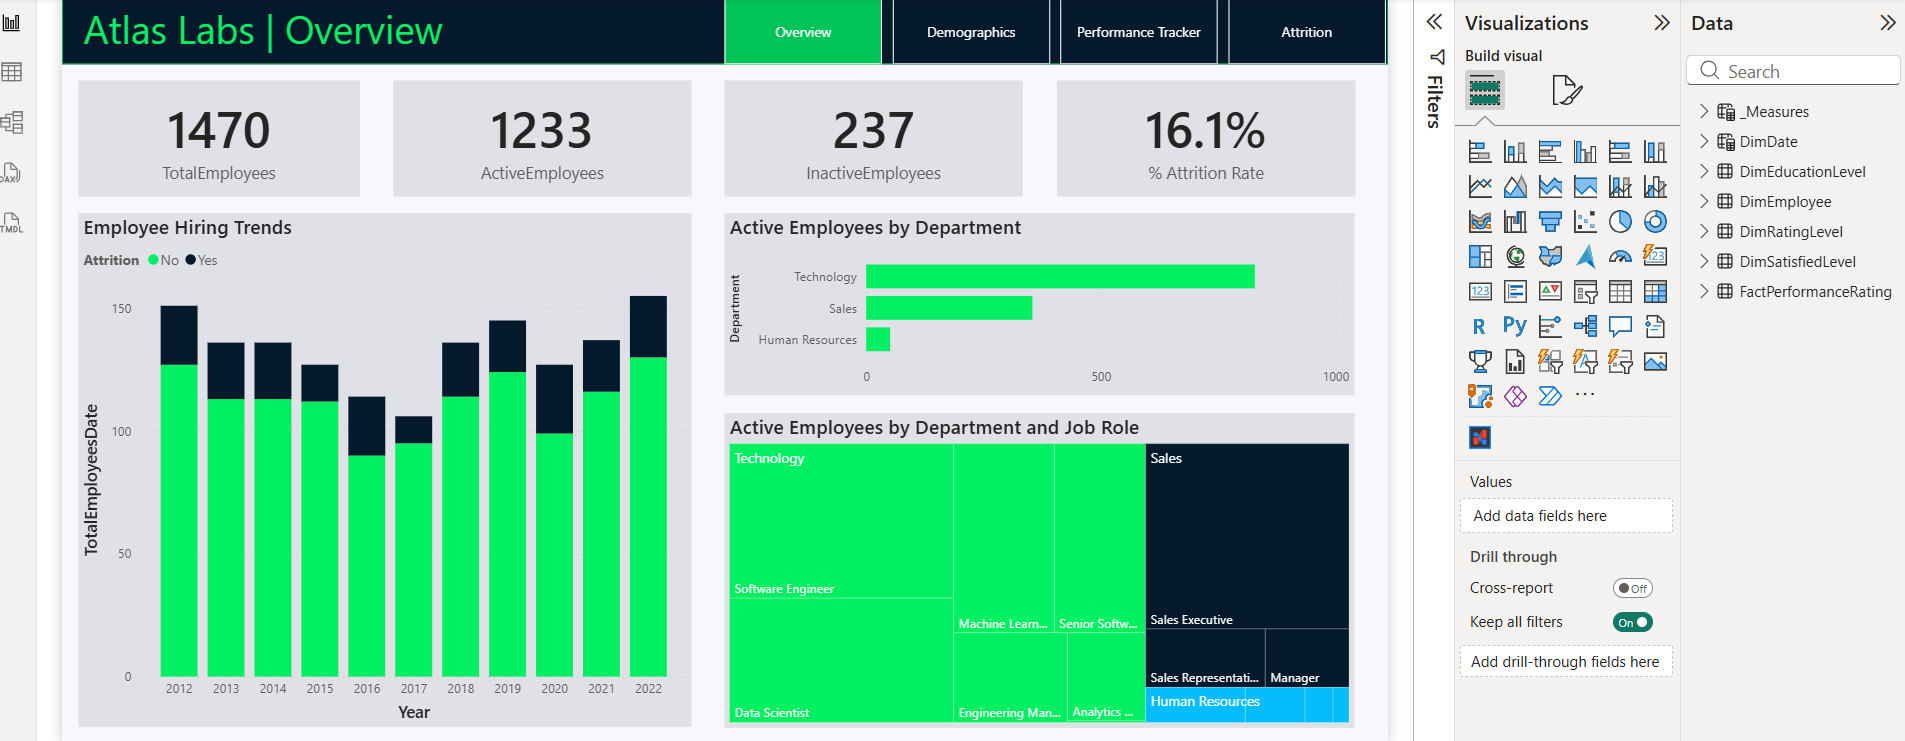

The dashboard page shown, as its layout file describes it:
{"tool":"powerbi","page":{"name":"Overview","canvas":[1280,720],"ordinal":0},"visuals":[{"type":"card","fields":{"Values":["_Measures.TotalEmployees"]},"box":[16,80,272,112],"z":0},{"type":"card","fields":{"Values":["_Measures.ActiveEmployees"]},"box":[320,80,288,112],"z":1000},{"type":"card","fields":{"Values":["_Measures.InactiveEmployees"]},"box":[640,80,288,112],"z":2000},{"type":"card","fields":{"Values":["_Measures.% Attrition Rate"]},"box":[960,80,288,112],"z":3000},{"type":"columnChart","title":"Employee Hiring Trends","fields":{"Category":["DimDate.Date.Variation.Date Hierarchy.Year","DimDate.Date.Variation.Date Hierarchy.Quarter","DimDate.Date.Variation.Date Hierarchy.Month","DimDate.Date.Variation.Date Hierarchy.Day"],"Y":["_Measures.TotalEmployeesDate"],"Series":["DimEmployee.Attrition"]},"box":[16,208,592,496],"z":4000},{"type":"clusteredBarChart","title":"Active Employees by Department","fields":{"Category":["DimEmployee.Department"],"Y":["_Measures.ActiveEmployees"]},"box":[640,208,608,176],"z":5000},{"type":"treemap","title":"Active Employees by Department and Job Role","fields":{"Values":["_Measures.ActiveEmployees"],"Group":["DimEmployee.Department"],"Details":["DimEmployee.JobRole"]},"box":[640,400,608,304],"z":6000},{"type":"shape","box":[0,0,1280,64],"z":7000},{"type":"textbox","box":[16,0,448,64],"z":8000},{"type":"pageNavigator","box":[640,0,640,64],"z":9000}]}

Visuals, with their boxes on the page's 1280x720 design canvas (x1, y1, x2, y2). These are canvas units, not pixel positions in the 1905x741 screenshot, which may show the page scaled, cropped or inside an application window:
card - _Measures.TotalEmployees: box=[16, 80, 288, 192]
card - _Measures.ActiveEmployees: box=[320, 80, 608, 192]
card - _Measures.InactiveEmployees: box=[640, 80, 928, 192]
card - _Measures.% Attrition Rate: box=[960, 80, 1248, 192]
"Employee Hiring Trends" columnChart: box=[16, 208, 608, 704]
"Active Employees by Department" clusteredBarChart: box=[640, 208, 1248, 384]
"Active Employees by Department and Job Role" treemap: box=[640, 400, 1248, 704]
shape: box=[0, 0, 1280, 64]
textbox: box=[16, 0, 464, 64]
pageNavigator: box=[640, 0, 1280, 64]
